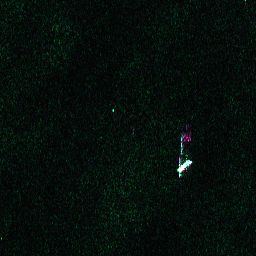ship: (175, 157, 193, 174)
